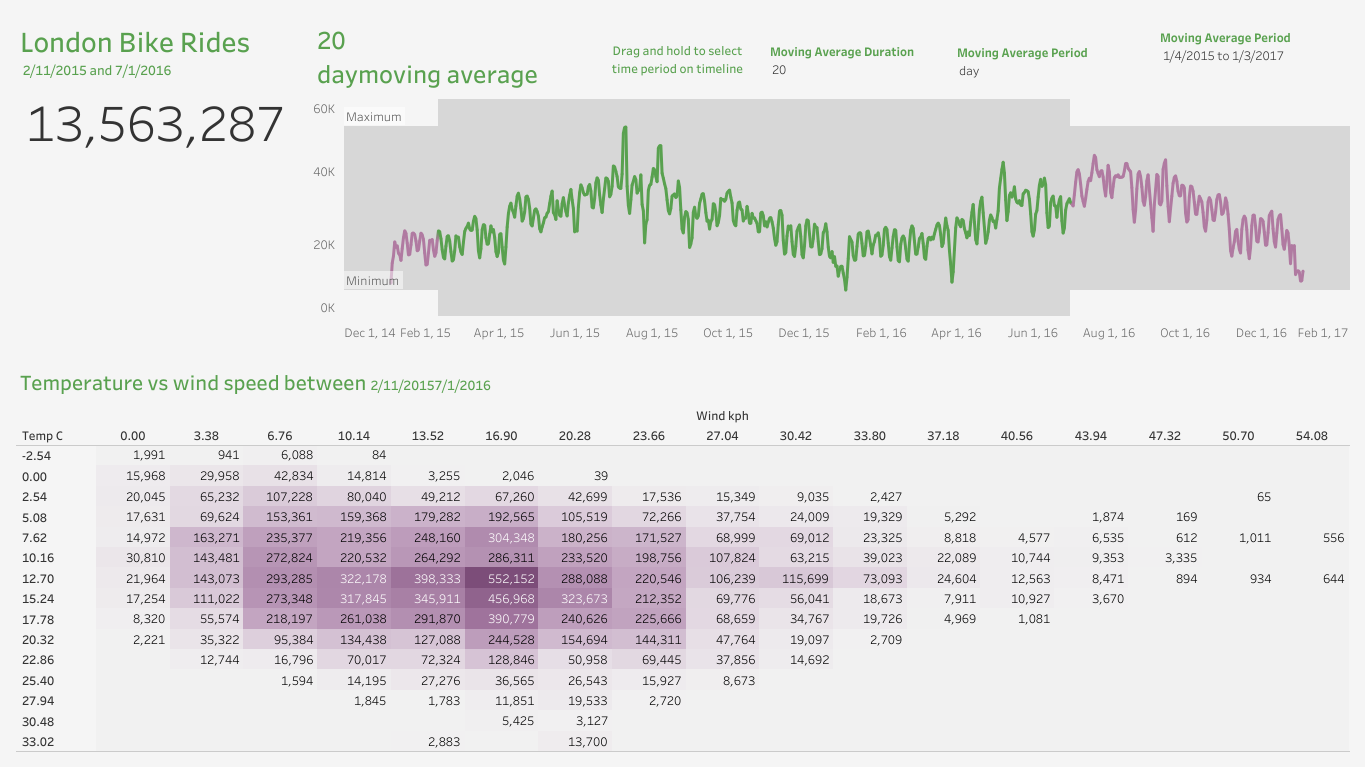

What the dashboard file says about the page in this screenshot:
{"tool":"tableau","page":{"name":"Dashboard 1","canvas":[1366,768],"ordinal":0},"visuals":[{"type":"worksheet","title":"TotalRides","mark":"Automatic","box":[8,8,297.2,346]},{"type":"worksheet","title":"MovingAverage","mark":"Automatic","rows":["count"],"cols":["Calculation_15410803594268702"],"box":[305.2,8,1052.8,346]},{"type":"filter","title":"MovingAverage","param":"[federated.0dlp5q60kerl2711lqtwr0cnenkt].[none:Calculation_15410803594268702:qk]","box":[1160,27,168,70]},{"type":"text","box":[609,41,137,36]},{"type":"parameter","param":"[Parameters].[Parameter 2]","box":[770,41,160,45]},{"type":"parameter","param":"[Parameters].[Parameter 1]","box":[957,42,160,48]},{"type":"worksheet","title":"Heat Map","mark":"Square","rows":["temp real C (bin)"],"cols":["Wind Speed Kph (bin)"],"box":[8,354,1350,406]}]}

Visuals, with their boxes in screenshot pixels (x1, y1, x2, y2), scaled from the page's 1366x768 canvas onto the 1365x767 screenshot:
"TotalRides" worksheet: 8/8/305/354
"MovingAverage" worksheet: 305/8/1357/354
"MovingAverage" filter: 1159/27/1327/97
text: 609/41/745/77
parameter: 769/41/929/86
parameter: 956/42/1116/90
"Heat Map" worksheet (Square marks): 8/354/1357/759
